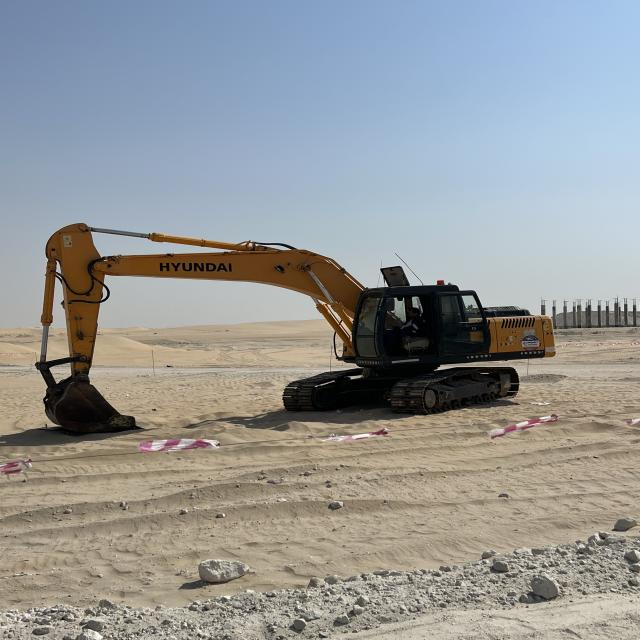Excavator: (33, 219, 556, 439)
